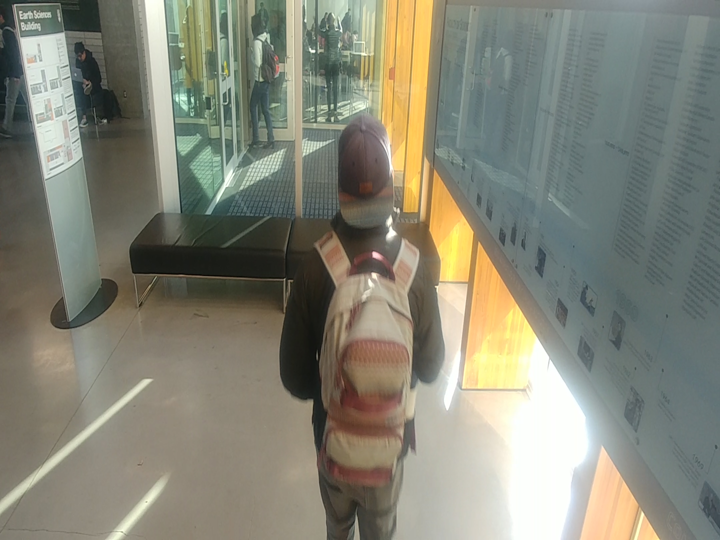face: (331, 103, 405, 240), (247, 10, 271, 42), (71, 38, 91, 67), (325, 7, 338, 31)
human: (273, 109, 457, 540), (241, 11, 283, 151), (0, 6, 34, 146), (68, 36, 111, 129), (314, 7, 344, 131)
